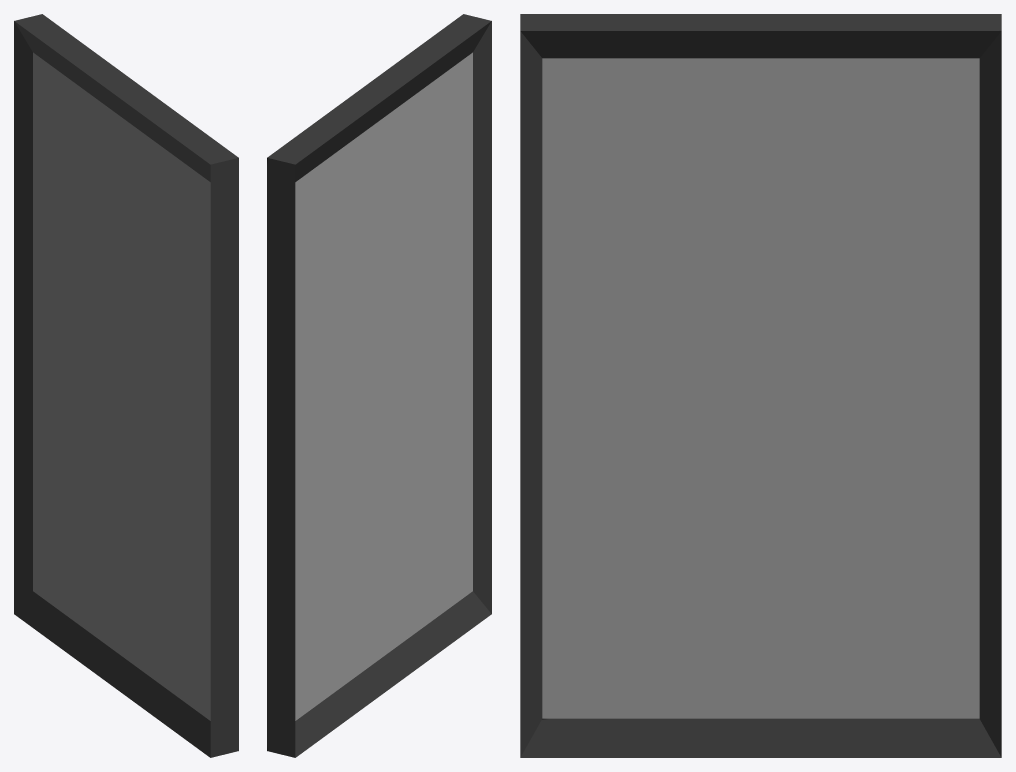
Rendered from picture.gltf.
3 views of the same model, side by side, from view 1: azimuth 30°, elevation 25°; view 2: azimuth 150°, elevation 25°; view 3: azimuth 270°, elevation 25° (orthographic). The views are drawn at different scales.
Visible parts, largest first — view 1: cube; view 2: cube; view 3: cube.
Boxes of the visible parts, box(x1,y1,x2,y2) form: cube: box(14, 14, 238, 757); cube: box(267, 14, 491, 757); cube: box(520, 14, 1001, 757).
Bounding box in the file's own units: 1 × 20 × 12.
1 material, 1 textured.
